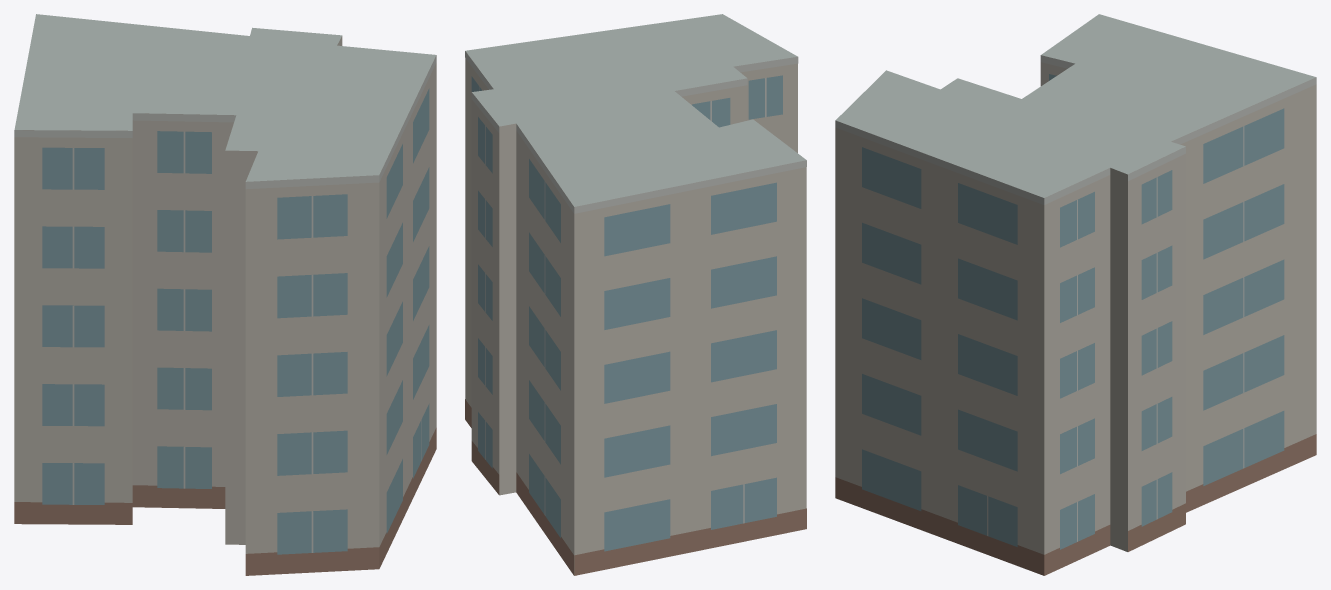
Rendered from survey-upis-32889919.glb.
3 views of the same model, side by side, from view 1: azimuth 30°, elevation 25°; view 2: azimuth 150°, elevation 25°; view 3: azimuth 270°, elevation 25° (orthographic). The views are drawn at different scales.
Parts seen in each view (by area): view 1: survey-upis-32889919.tmp; view 2: survey-upis-32889919.tmp; view 3: survey-upis-32889919.tmp.
Part boxes in pixels (x1,y1,x2,y2): survey-upis-32889919.tmp: (14, 14, 436, 575); survey-upis-32889919.tmp: (465, 14, 806, 575); survey-upis-32889919.tmp: (835, 14, 1316, 575).
Size of the model in its own units: 13.7 by 13.1 by 15.13.
